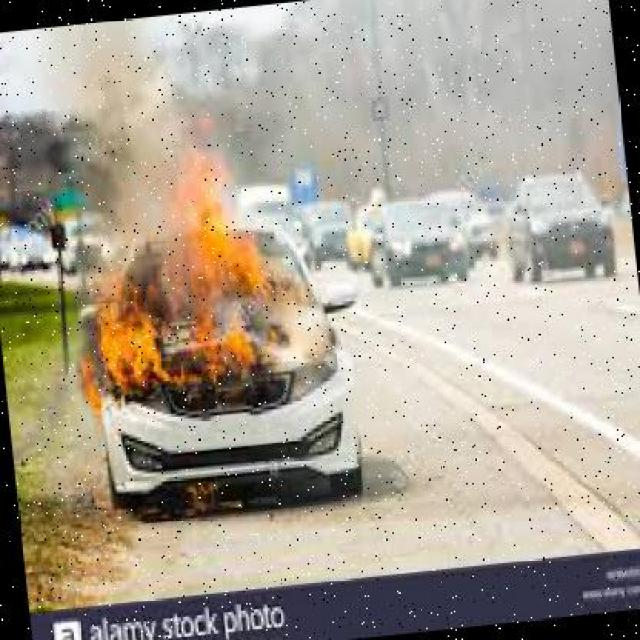fire: (63, 148, 292, 408)
